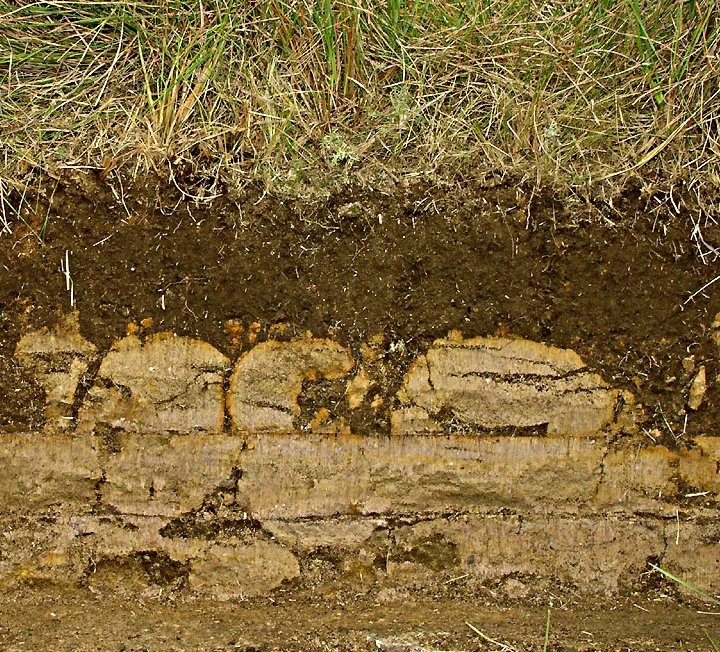Chaise: (298, 56, 470, 293)
